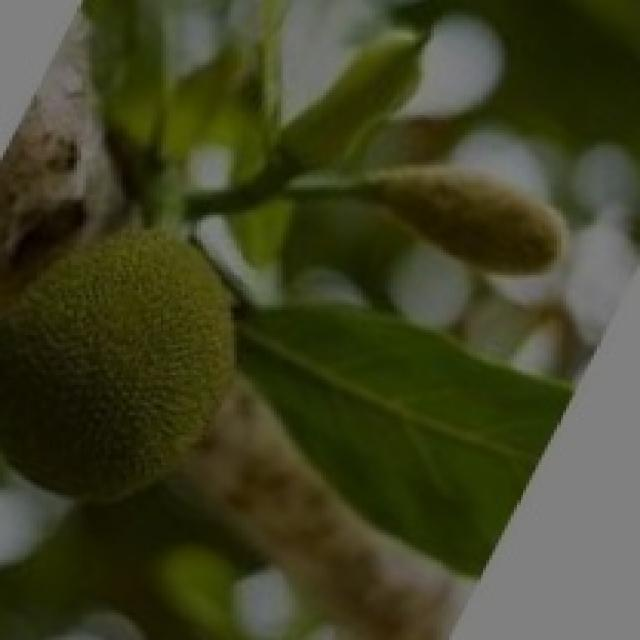Fruit: (0, 198, 283, 550)
